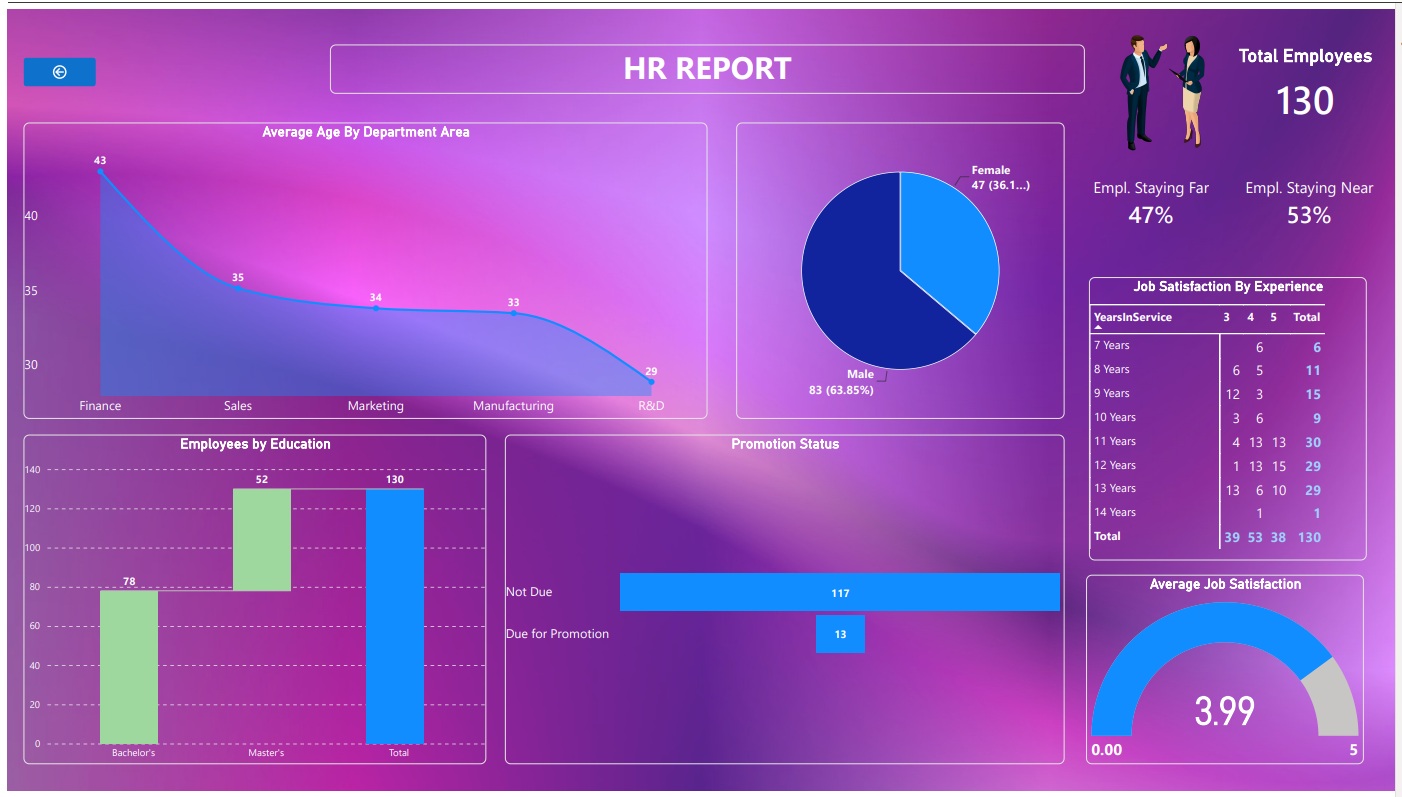

What the dashboard file says about the page in this screenshot:
{"tool":"powerbi","page":{"name":"HR","canvas":[1920,1080],"ordinal":1},"visuals":[{"type":"textbox","box":[446,48,1044,68],"z":0},{"type":"actionButton","box":[22,66,100,40],"z":1000},{"type":"areaChart","title":"Average Age By Department Area","fields":{"Category":["HR.Department"],"Y":["Avg(HR.Age)"]},"box":[22,156,946,410],"z":2000},{"type":"pieChart","fields":{"Series":["HR.Gender"],"Y":["HR.TotalEmployees"]},"box":[1008,156,454,410],"z":3000},{"type":"image","box":[1516,0,172,230],"z":4000},{"type":"cardVisual","title":"Total Employees","fields":{"Data":["HR.TotalEmployees"]},"box":[1688,48,215,117.5],"z":5000},{"type":"cardVisual","fields":{"Data":["HR.%DistanceFar"]},"box":[1462,206,240,122.5],"z":6000},{"type":"cardVisual","fields":{"Data":["HR.%DistanceNear"]},"box":[1682,206,237.5,122.5],"z":7000},{"type":"pivotTable","title":"Job Satisfaction By Experience","fields":{"Columns":["HR.JobSatisfation"],"Rows":["HR.YearsInService"],"Values":["HR.TotalEmployees"]},"box":[1496,370,384,392],"z":8000},{"type":"gauge","title":"Average Job Satisfaction","fields":{"MaxValue":["Max(HR.JobSatisfation)"],"Y":["HR.AverageJobSatisfaction"]},"box":[1492,782,384,262],"z":9000},{"type":"waterfallChart","title":"Employees by Education","fields":{"Category":["HR.Education"],"Y":["HR.TotalEmployees"]},"box":[22,588,640,456],"z":10000},{"type":"funnel","title":"Promotion Status","fields":{"Category":["HR.PromotionStatus"],"Y":["HR.TotalEmployees"]},"box":[688,588,774,456],"z":10001}]}

Visuals, with their boxes in screenshot pixels (x1, y1, x2, y2), scaled from the page's 1920x1080 canvas onto the 1402x797 screenshot:
textbox: Rect(326, 35, 1088, 86)
actionButton: Rect(16, 49, 89, 78)
"Average Age By Department Area" areaChart: Rect(16, 115, 707, 418)
pieChart - HR.Gender x HR.TotalEmployees: Rect(736, 115, 1068, 418)
image: Rect(1107, 0, 1233, 170)
"Total Employees" cardVisual: Rect(1233, 35, 1390, 122)
cardVisual - HR.%DistanceFar: Rect(1068, 152, 1243, 242)
cardVisual - HR.%DistanceNear: Rect(1228, 152, 1401, 242)
"Job Satisfaction By Experience" pivotTable: Rect(1092, 273, 1373, 562)
"Average Job Satisfaction" gauge: Rect(1089, 577, 1370, 770)
"Employees by Education" waterfallChart: Rect(16, 434, 483, 770)
"Promotion Status" funnel: Rect(502, 434, 1068, 770)
